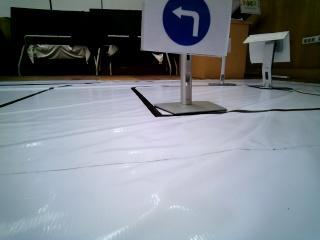left: (145, 0, 223, 55)
